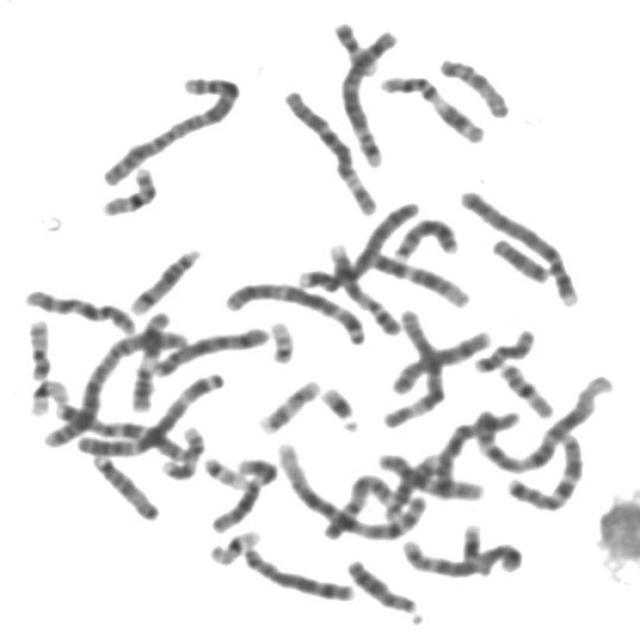A1: (269, 434, 430, 542), (466, 366, 616, 475)
A2: (42, 319, 191, 450), (93, 68, 244, 187)
A3: (63, 365, 227, 457), (217, 274, 369, 347)
B4: (452, 182, 584, 309), (292, 194, 422, 293)
B5: (333, 22, 403, 168), (394, 532, 525, 579)
C10: (18, 281, 140, 337), (370, 445, 486, 502)
C11: (373, 68, 487, 145), (124, 303, 174, 414)
C12: (357, 242, 473, 309), (204, 451, 281, 535)
C6: (276, 82, 381, 218), (376, 302, 449, 430)
C7: (48, 396, 191, 460), (499, 425, 586, 513)
C8: (384, 322, 494, 397), (235, 540, 357, 604)
C9: (324, 237, 404, 338), (318, 472, 398, 545)
D13: (341, 552, 426, 625), (387, 211, 461, 262)
D14: (124, 242, 204, 317), (380, 448, 444, 520)
D15: (85, 447, 162, 523), (432, 50, 512, 119)
E16: (493, 354, 557, 420), (94, 160, 160, 218)
E17: (252, 372, 324, 436), (155, 419, 207, 481)
E18: (468, 321, 539, 374), (485, 231, 553, 284)
F19: (202, 523, 264, 567), (23, 373, 73, 418)
F20: (327, 14, 381, 77), (20, 312, 54, 382)
G21: (314, 378, 363, 434), (456, 517, 494, 579)
G22: (197, 449, 250, 491), (263, 313, 297, 365)
X: (432, 402, 523, 504), (147, 319, 271, 379)
